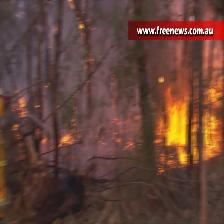fire: (175, 70, 224, 168), (164, 86, 187, 146)
